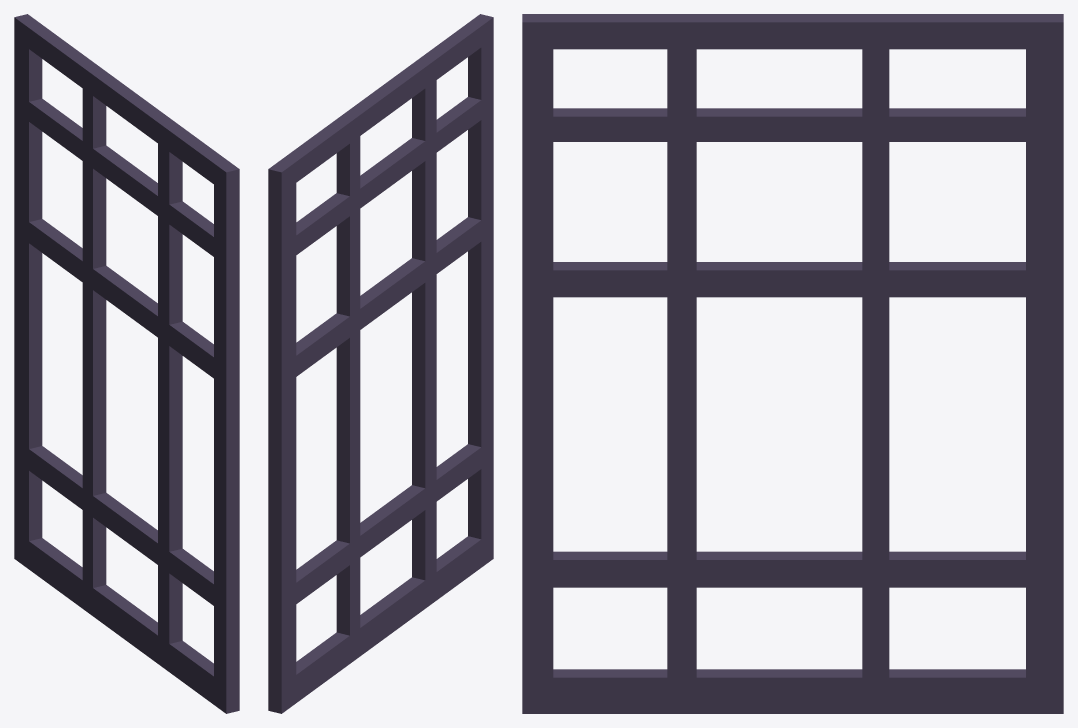
File: LongFrame4.fbx
The picture shows the model from 3 angles, left to right: view 1: azimuth 30°, elevation 25°; view 2: azimuth 150°, elevation 25°; view 3: azimuth 270°, elevation 25°; orthographic projection. The views are drawn at different scales.
Visible parts, largest first — view 1: LongFrame4; view 2: LongFrame4; view 3: LongFrame4.
Boxes of the visible parts, x1,y1,x2,y2 form: LongFrame4: (14,14,239,713); LongFrame4: (268,14,493,713); LongFrame4: (522,14,1063,713).
Bounding box in the file's own units: 4.28 × 166 × 118.
